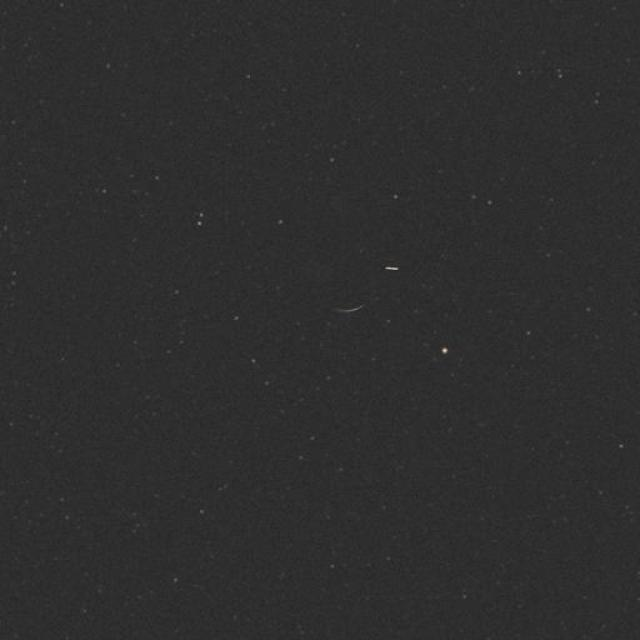proba_3_ocs: (285, 214, 446, 334)
